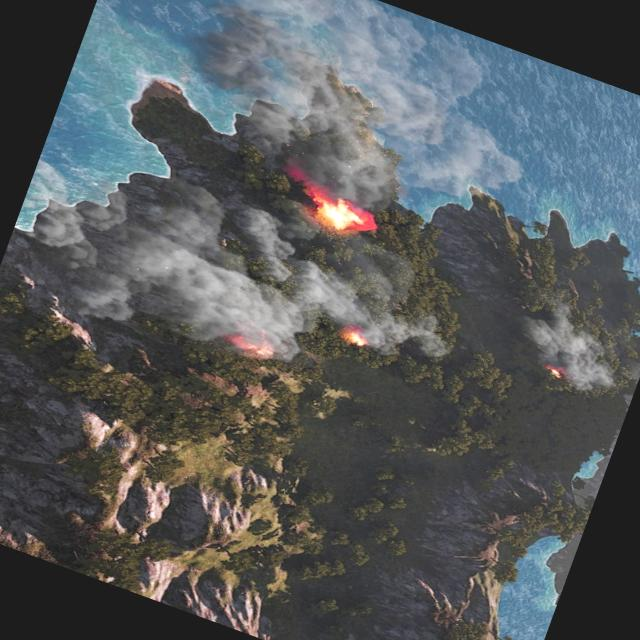fire: (295, 186, 376, 242), (224, 318, 280, 362), (338, 322, 368, 348), (542, 364, 564, 379)
smoke: (0, 118, 476, 439), (60, 0, 569, 258), (502, 294, 633, 399)
